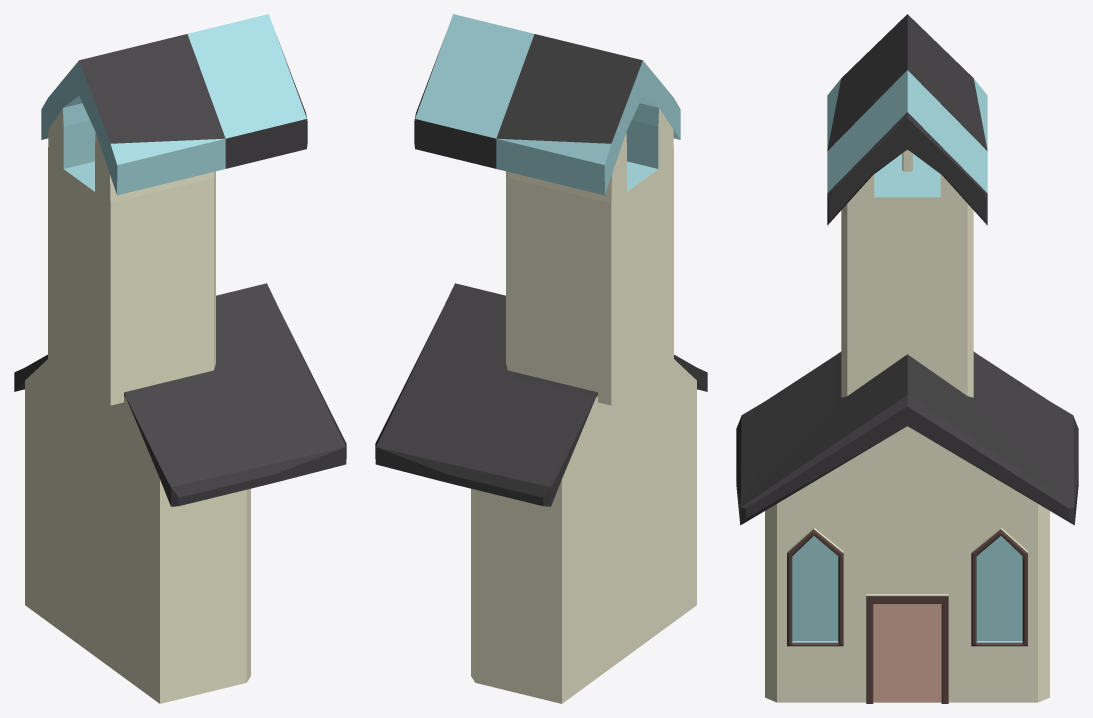
The model's file is church.fbx.
3 renders of one model, left to right at view 1: azimuth 30°, elevation 25°; view 2: azimuth 150°, elevation 25°; view 3: azimuth 270°, elevation 25°, orthographic. The views are drawn at different scales.
Parts seen in each view (by area): view 1: Cube.001; view 2: Cube.001; view 3: Cube.001.
Boxes of the visible parts, <box> form: Cube.001: <box>14,14,346,703</box>; Cube.001: <box>375,14,707,703</box>; Cube.001: <box>736,14,1078,703</box>.
Size of the model in its own units: 820 by 2445 by 1199.
